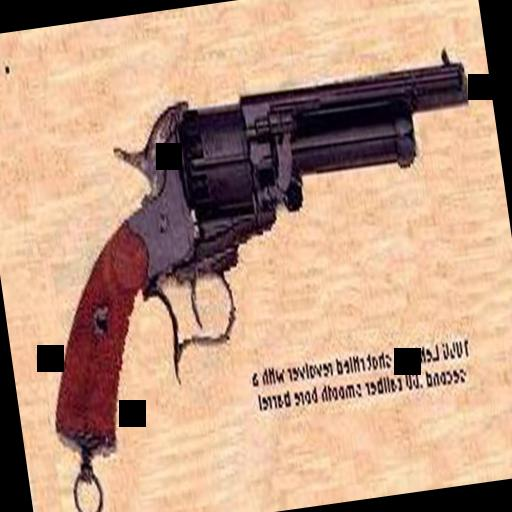Handgun: (7, 39, 512, 465)
